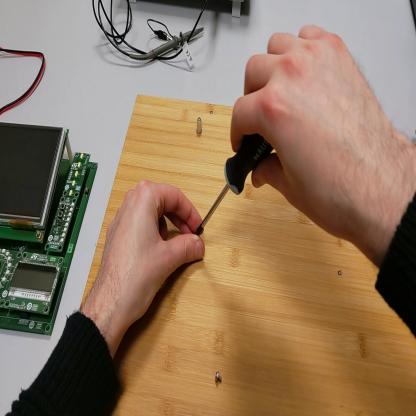hand: (231, 25, 392, 244), (98, 180, 207, 327)
low voltage board: (2, 121, 99, 338)
oscilloscope: (229, 1, 248, 19)
oscilloscope probe tip: (140, 30, 205, 62)
screwdriver-: (197, 134, 275, 236)
welder station: (410, 3, 416, 30)
working area: (81, 94, 416, 416)
